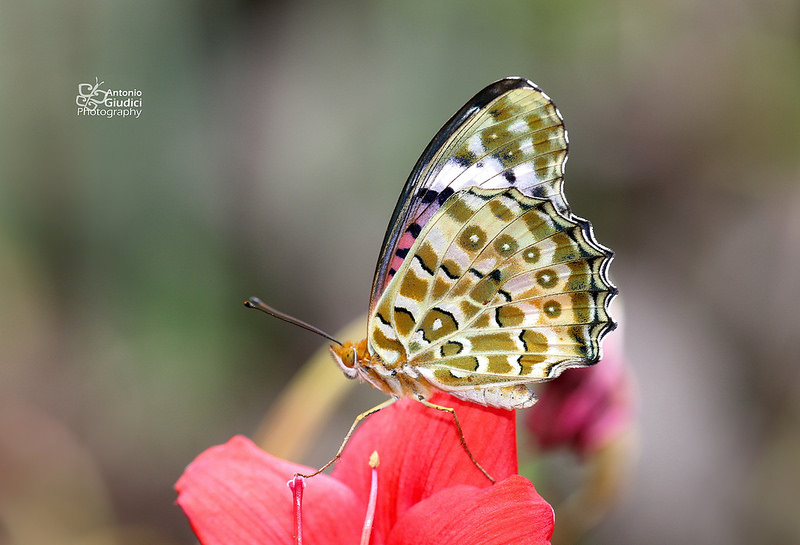Argyreus hyperbius: (244, 68, 626, 484)
butterfly: (242, 66, 624, 482)
